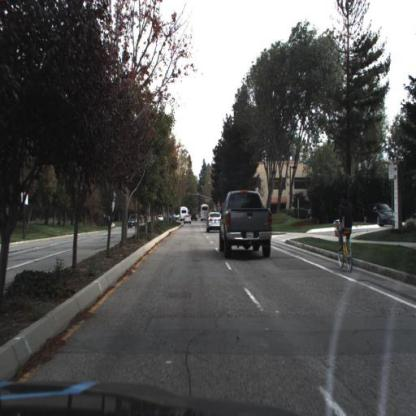biker: (335, 191, 354, 267)
car: (217, 190, 274, 265), (206, 211, 224, 236), (127, 213, 142, 231)
